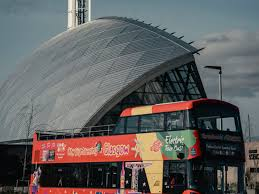bus: (28, 99, 246, 194)
